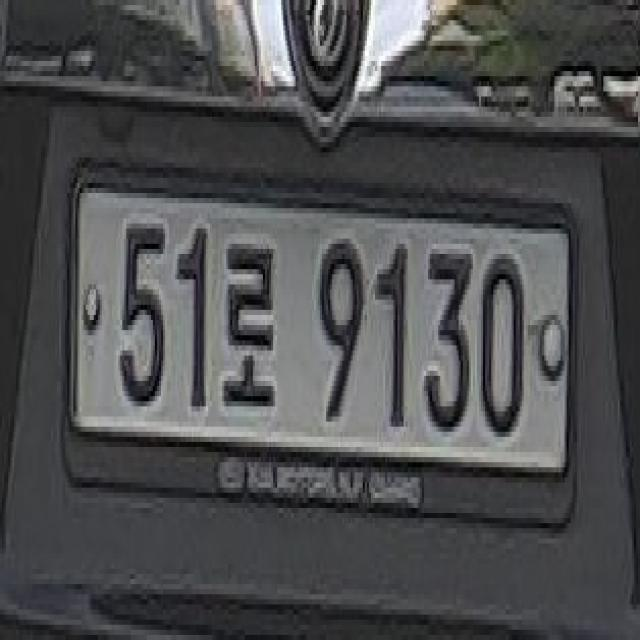0: (478, 236, 525, 443)
1: (369, 227, 410, 436), (173, 211, 210, 426)
3: (418, 234, 474, 432)
5: (110, 212, 170, 418)
9: (312, 223, 366, 437)
license_plate: (54, 144, 587, 539)
lo: (217, 222, 280, 418)
